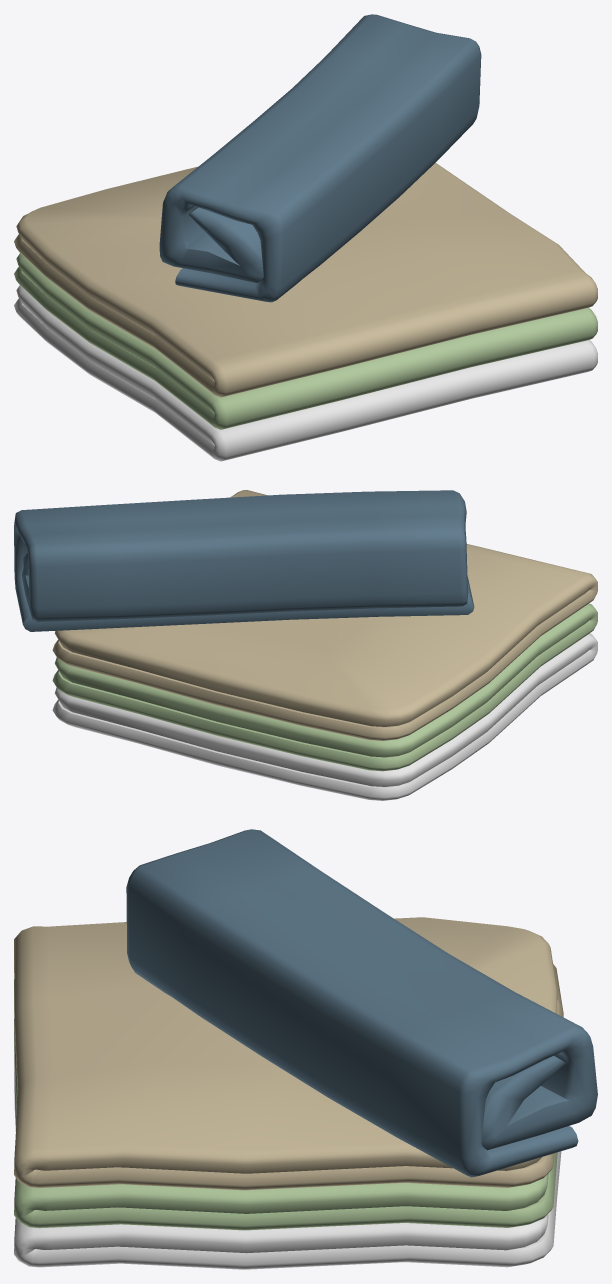
File: Washcloth02.FBX
3 views of the same model, one above another, from view 1: azimuth 30°, elevation 25°; view 2: azimuth 150°, elevation 25°; view 3: azimuth 270°, elevation 25° (orthographic). The views are drawn at different scales.
Visible parts, largest first — view 1: Washcloth02; view 2: Washcloth02; view 3: Washcloth02.
Boxes of the visible parts, <box> form: Washcloth02: <box>14,14,597,461</box>; Washcloth02: <box>14,490,597,800</box>; Washcloth02: <box>14,829,597,1269</box>.
Size of the model in its own units: 842 by 353 by 759.
